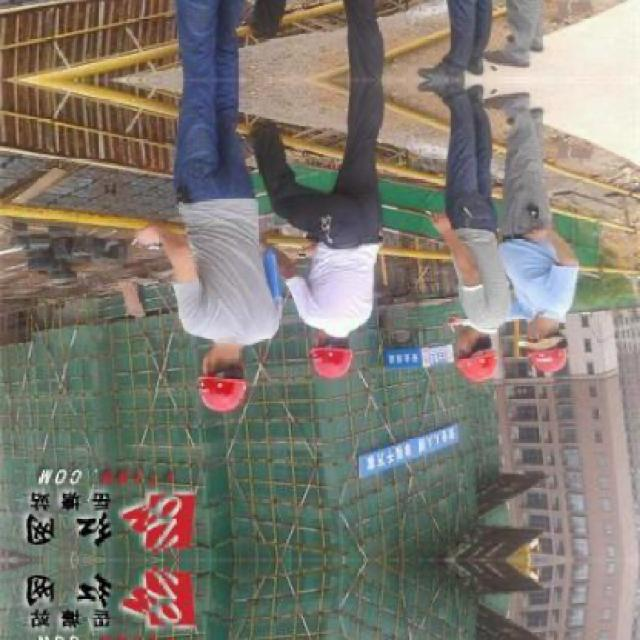con casco: (431, 265, 547, 393), (488, 297, 612, 412), (147, 328, 278, 420), (284, 269, 390, 382)
